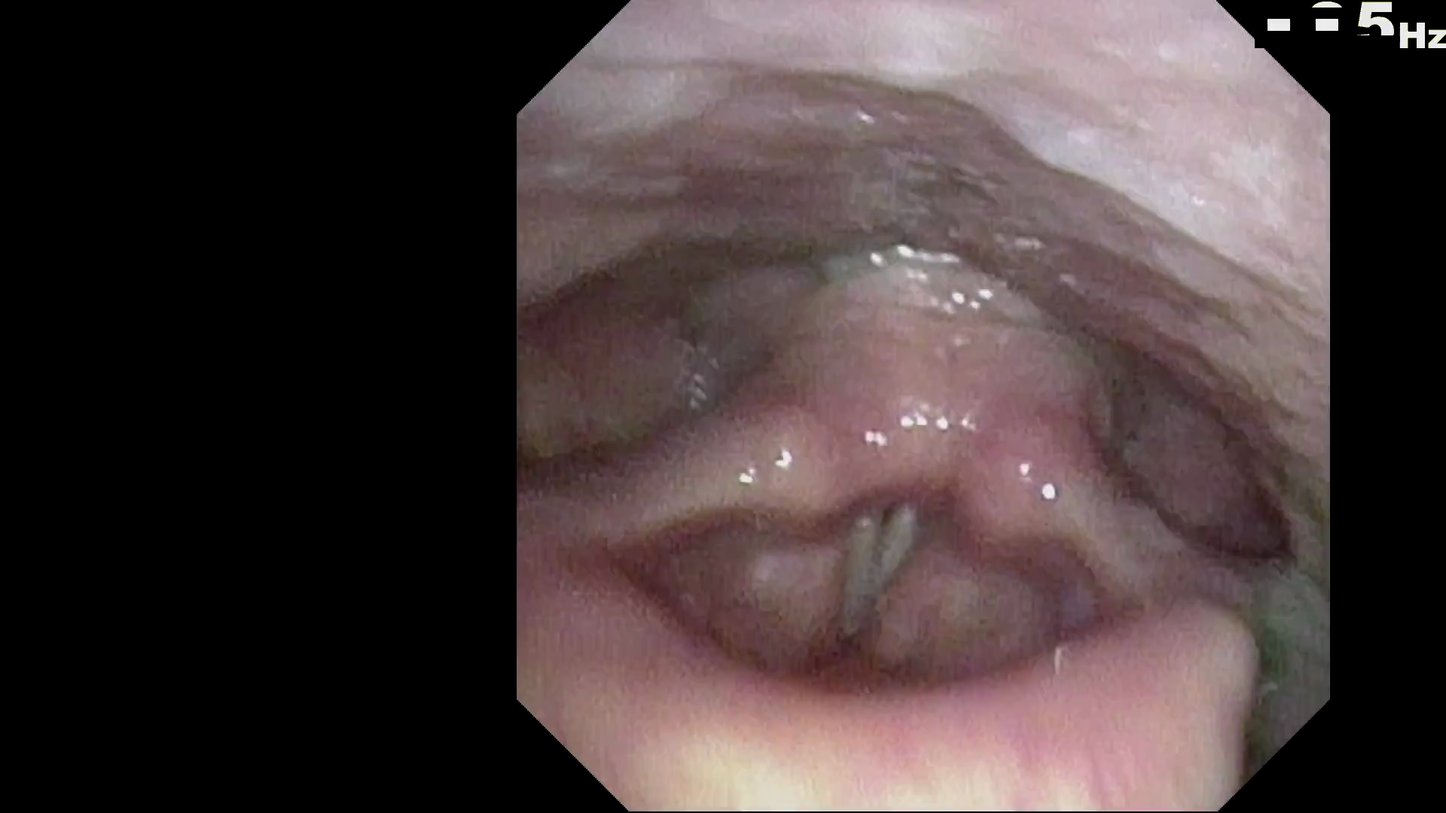epiglottis: (623, 575, 1223, 788)
trachea: (839, 484, 937, 595)
